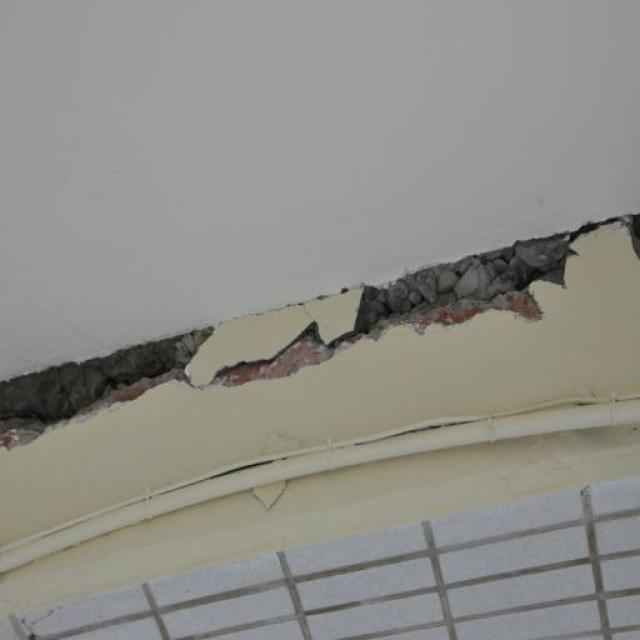D10: (211, 214, 639, 385), (0, 329, 212, 448)
